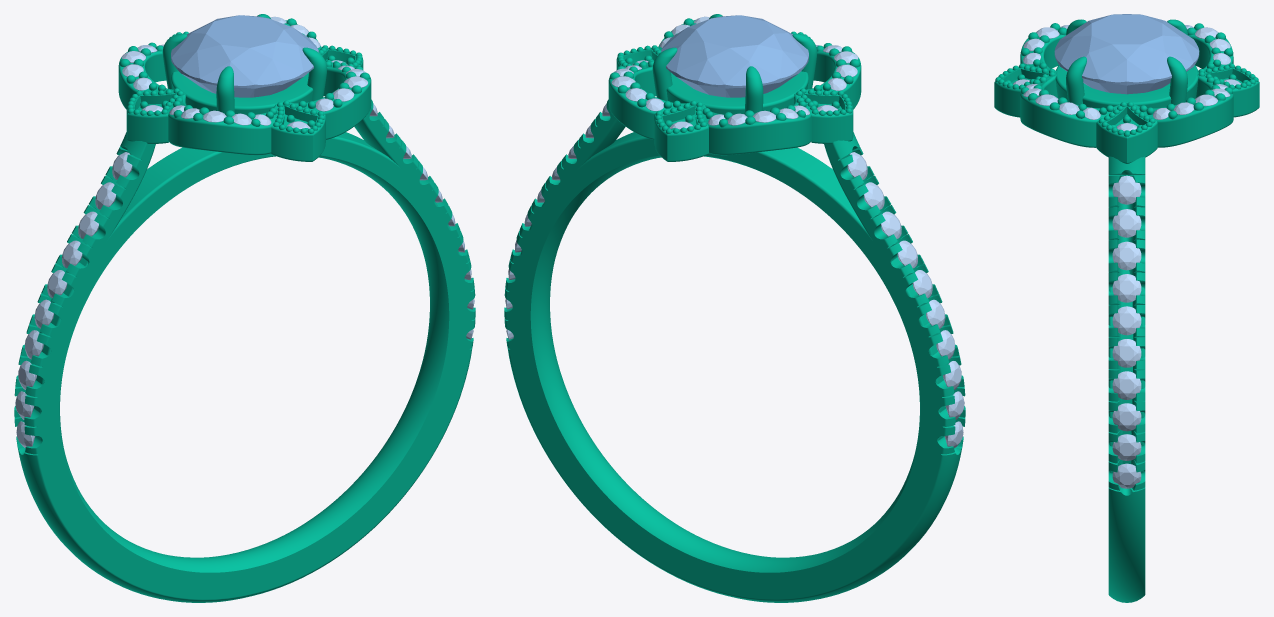
The picture shows the model from 3 angles, left to right: view 1: azimuth 30°, elevation 25°; view 2: azimuth 150°, elevation 25°; view 3: azimuth 270°, elevation 25°; orthographic projection. The views are drawn at different scales.
Parts seen in each view (by area): view 1: Vintage engagement ring(RENDER).3dm, Diamond_Round, Bezel; view 2: Vintage engagement ring(RENDER).3dm, Diamond_Round, Bezel; view 3: Vintage engagement ring(RENDER).3dm, Diamond_Round, GemOnCrv (×10), Bezel.
Boxes of the visible parts, left/top/right/bottom form: Vintage engagement ring(RENDER).3dm: left=14, top=14, right=475, bottom=602; Diamond_Round: left=171, top=15, right=318, bottom=97; Bezel: left=171, top=71, right=313, bottom=114; Vintage engagement ring(RENDER).3dm: left=504, top=14, right=965, bottom=602; Diamond_Round: left=661, top=15, right=808, bottom=97; Bezel: left=666, top=71, right=808, bottom=114; Vintage engagement ring(RENDER).3dm: left=994, top=19, right=1259, bottom=602; Diamond_Round: left=1054, top=14, right=1199, bottom=94; GemOnCrv (×10): left=1112, top=175, right=1141, bottom=488; Bezel: left=1055, top=65, right=1198, bottom=108.
Size of the model in its own units: 2.44 by 2.91 by 1.27.
